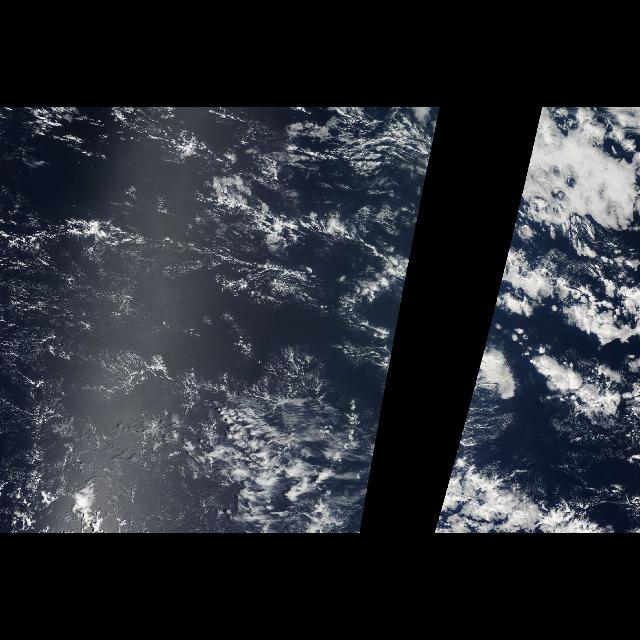Sugar: (0, 117, 334, 485)
